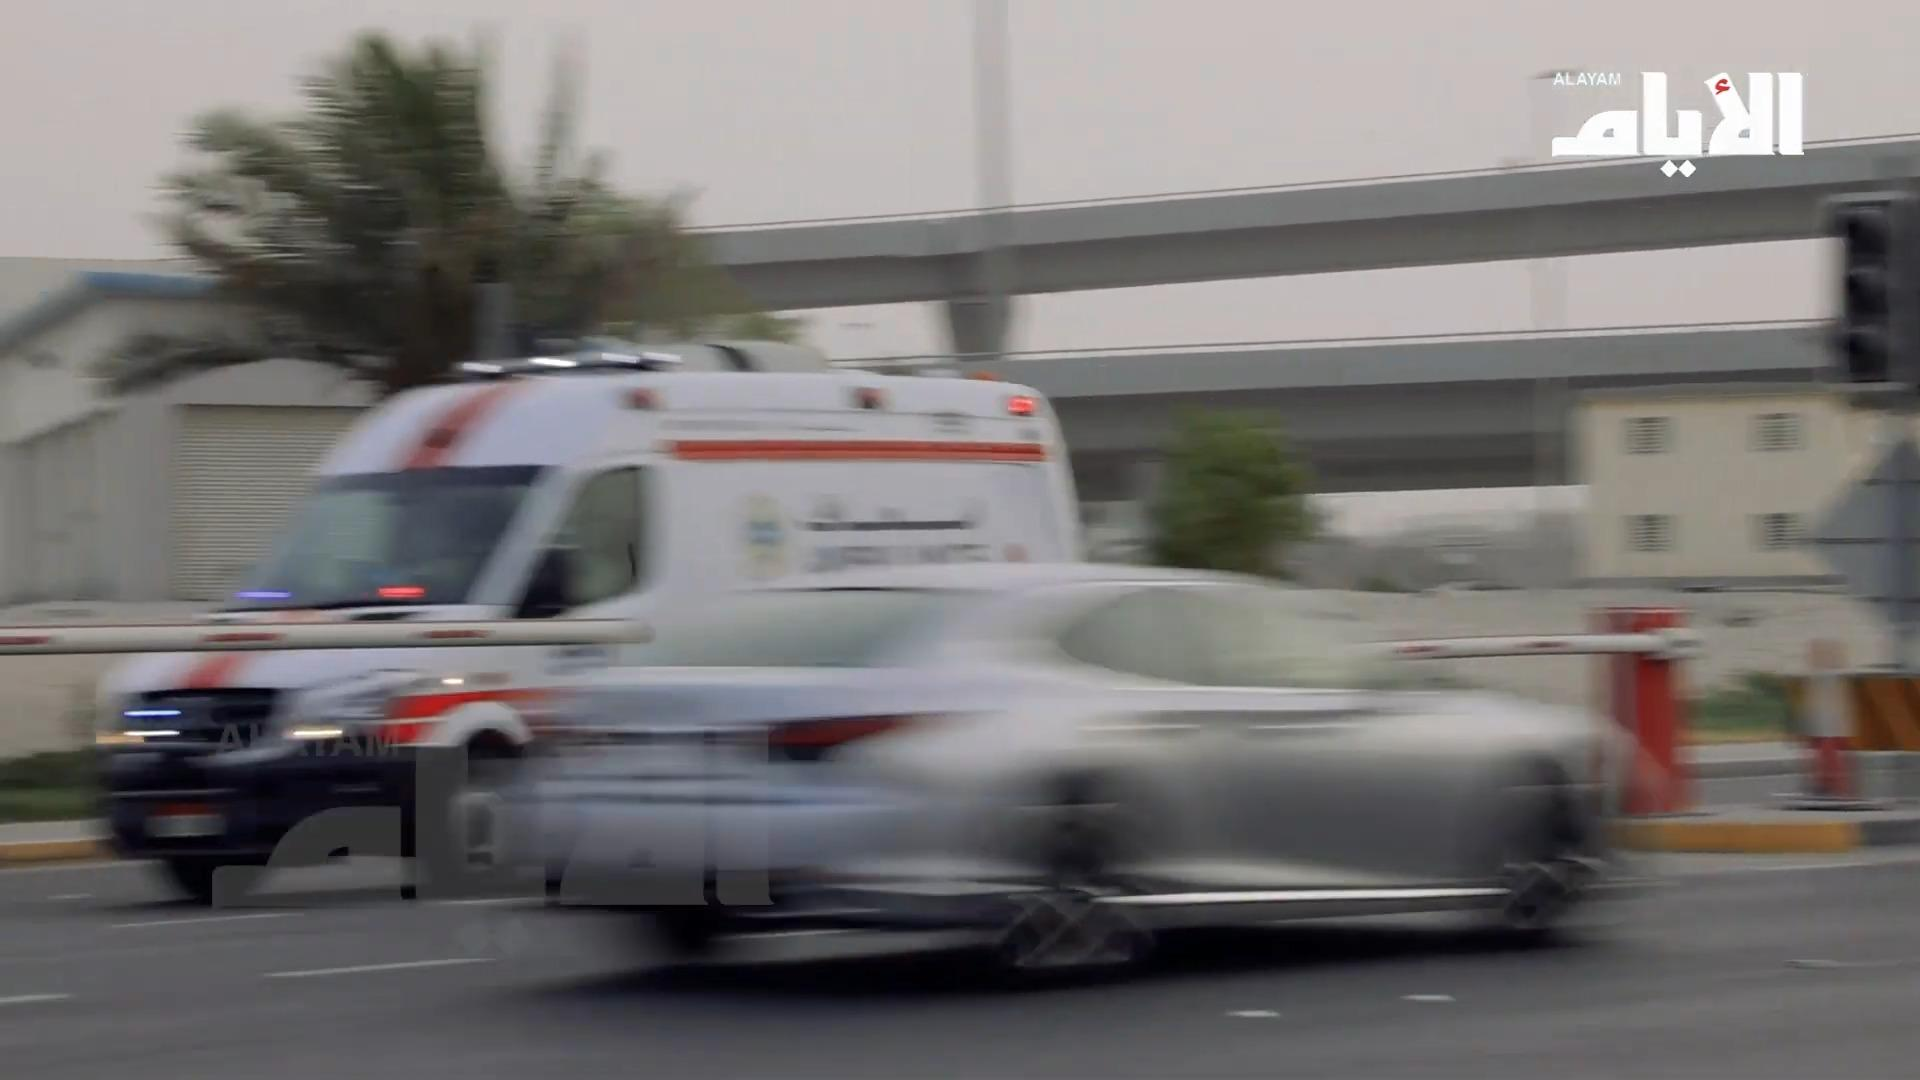ambulance_on: (86, 335, 1085, 902)
